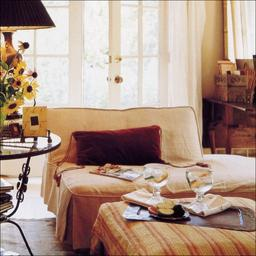Puerta: (109, 2, 166, 107)
Ventana: (14, 4, 82, 107)
